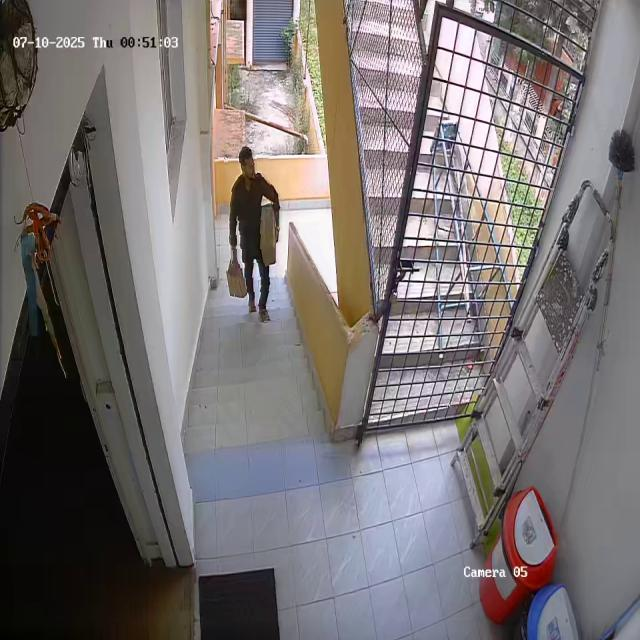person: (226, 145, 277, 323)
